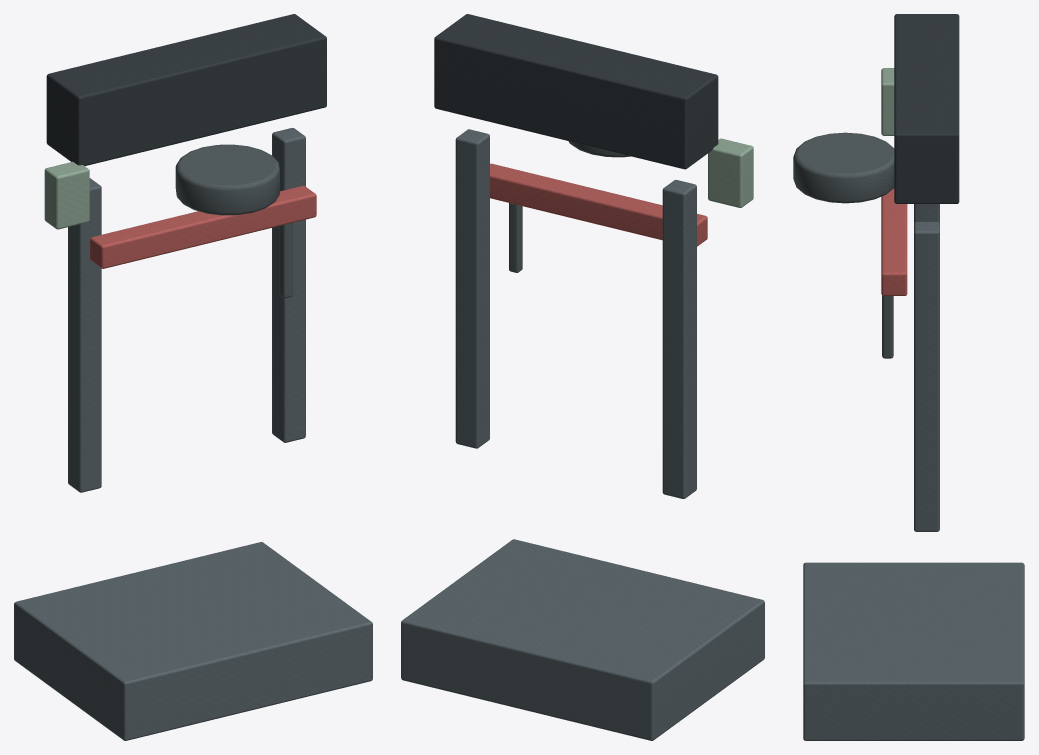
Rendered from WallEmergencyShower.fbx.
3 views of the same model, side by side, from view 1: azimuth 30°, elevation 25°; view 2: azimuth 150°, elevation 25°; view 3: azimuth 270°, elevation 25° (orthographic).
Parts seen in each view (by area): view 1: WallEmergencyShower_Mesh; view 2: WallEmergencyShower_Mesh; view 3: WallEmergencyShower_Mesh.
Boxes of the visible parts, x1=… form: WallEmergencyShower_Mesh: x1=14, y1=14, x2=372, y2=740; WallEmergencyShower_Mesh: x1=401, y1=14, x2=764, y2=740; WallEmergencyShower_Mesh: x1=793, y1=14, x2=1024, y2=740.
Bounding box in the file's own units: 98 × 206 × 71.
